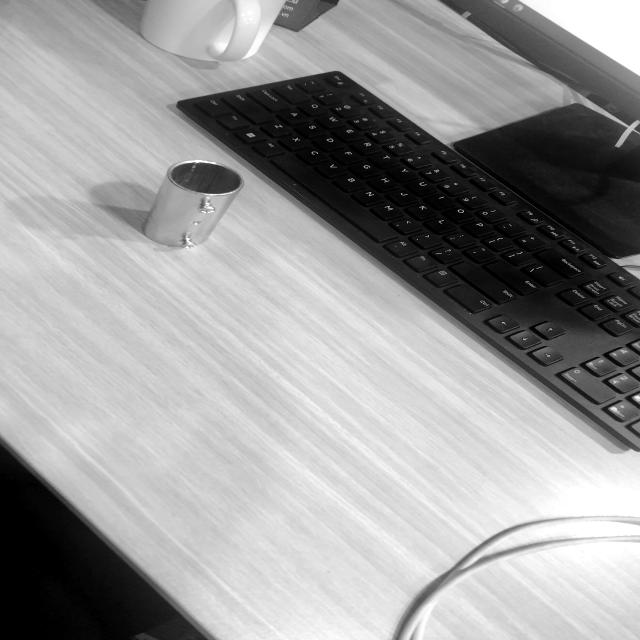Co_Lon: (137, 144, 248, 266)
